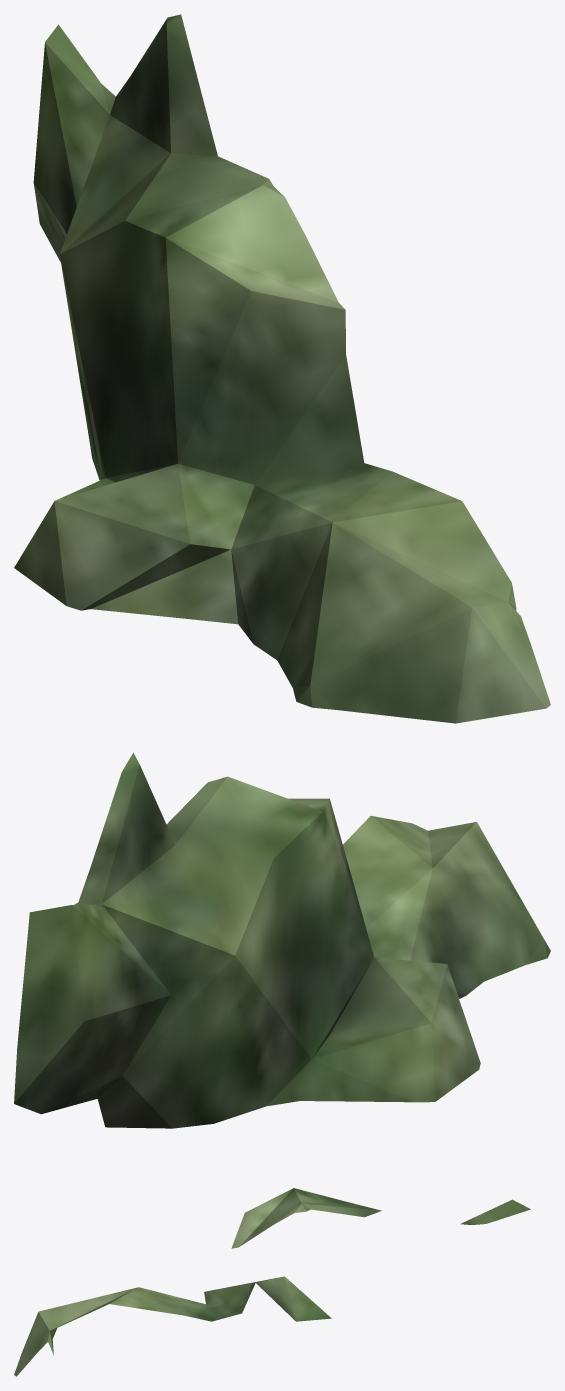
3 views of the same model, one above another, from view 1: azimuth 30°, elevation 25°; view 2: azimuth 150°, elevation 25°; view 3: azimuth 270°, elevation 25° (orthographic). The views are drawn at different scales.
Bounding box in the file's own units: 2.19 × 3.35 × 7.44.
1 material, 1 textured.
